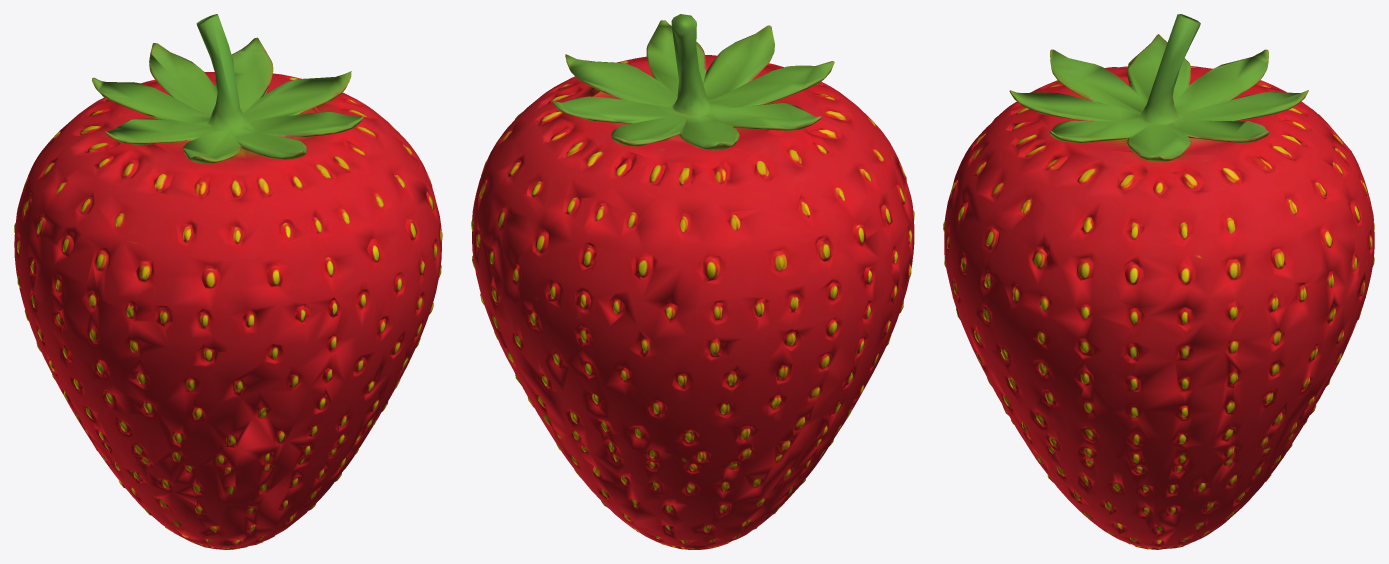
The model's file is strawberry.glb.
3 views of the same model, side by side, from view 1: azimuth 30°, elevation 25°; view 2: azimuth 150°, elevation 25°; view 3: azimuth 270°, elevation 25° (orthographic). The views are drawn at different scales.
Visible parts, largest first — view 1: material; view 2: material; view 3: material.
Part boxes in pixels (left/top/right/bottom): material: left=14, top=14, right=442, bottom=549; material: left=471, top=14, right=914, bottom=549; material: left=943, top=14, right=1374, bottom=549.
Bounding box in the file's own units: 0.8942 × 1.19 × 0.895.
Materials: 1 (1 with a texture image).
